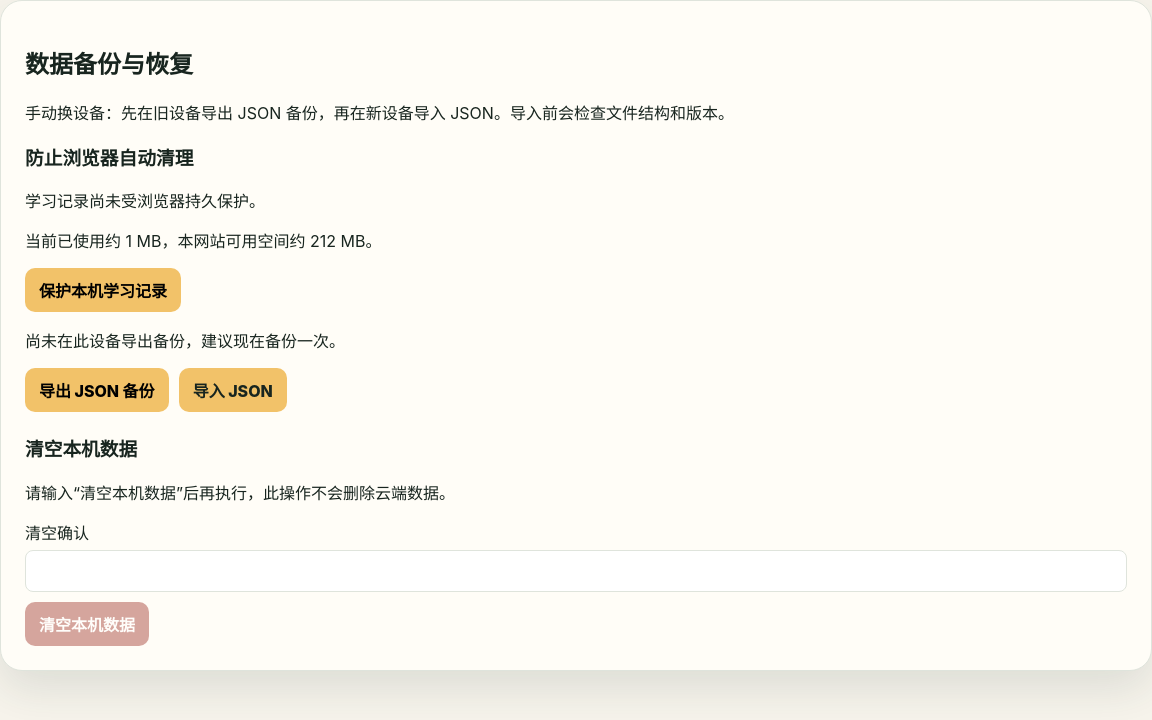
DataManagement › reports a clear failure instead of falsely claiming the data was removed
The image size is (1152, 720).
Type "清空本机数据" into the field labelled "清空确认" at (576, 571), box [25,550,1127,592]
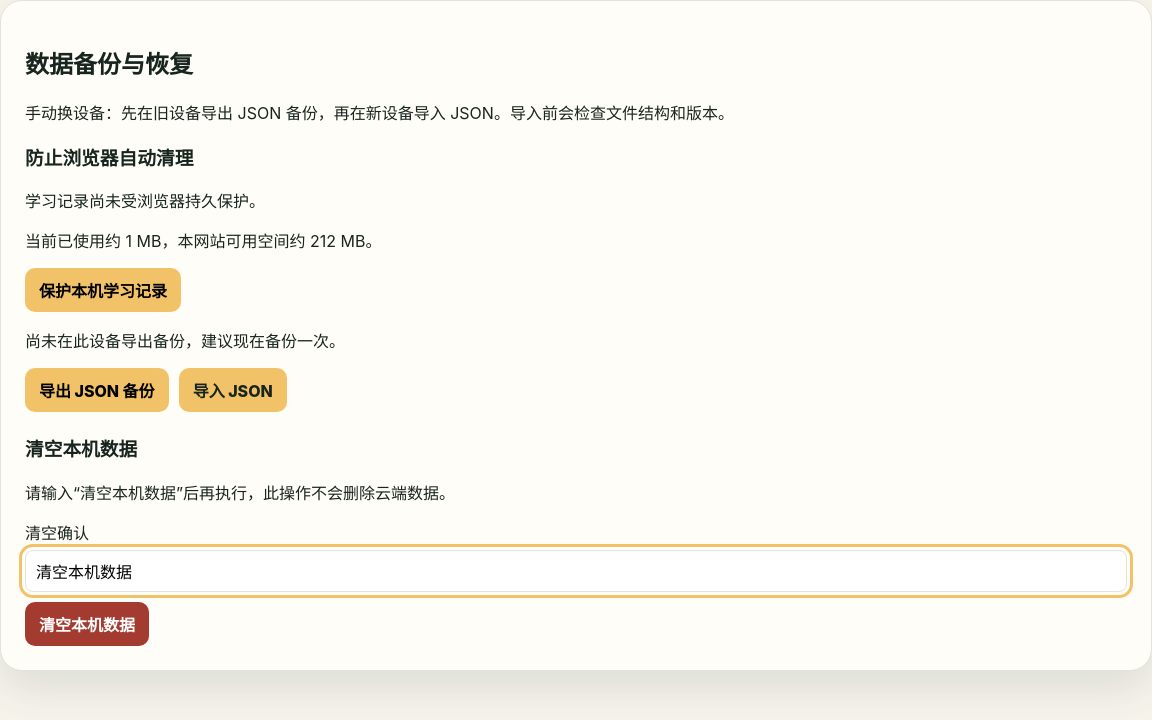
Click the button "清空本机数据" at (87, 624), box [25,602,149,646]
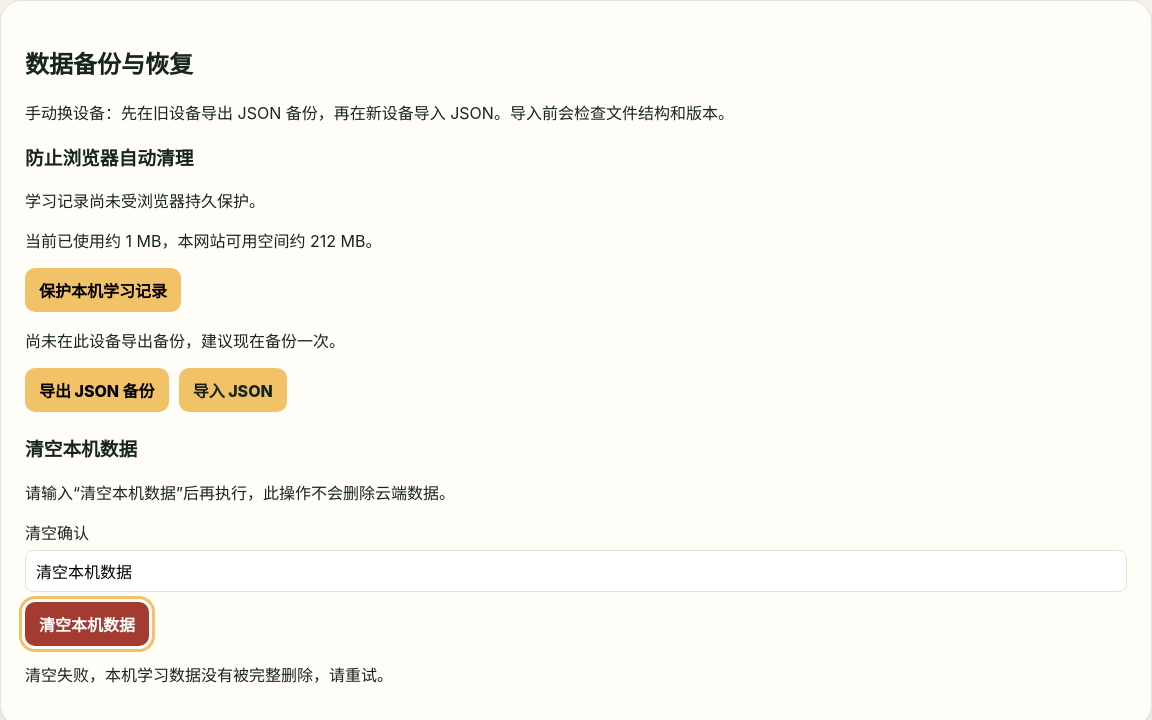
Now the text "清空失败，本机学习数据没有被完整删除，请重试。" is shown, box [25,665,393,685]
